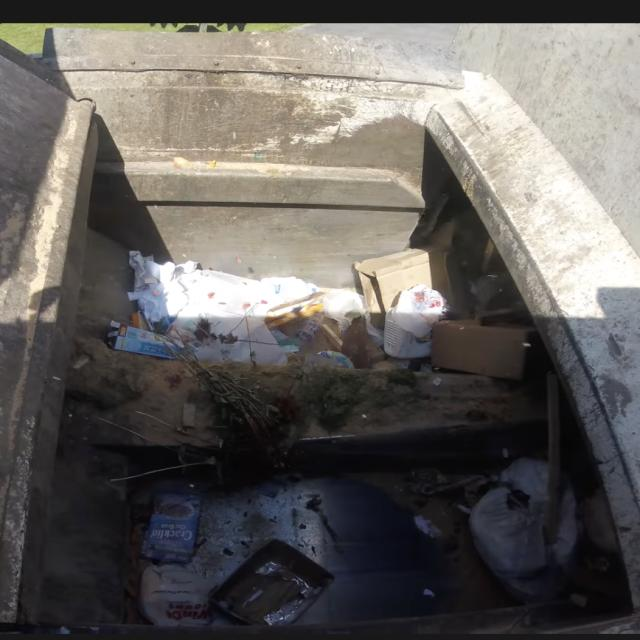cardboard: (338, 238, 554, 412)
paper: (110, 476, 357, 634), (100, 242, 333, 368)
yard: (174, 355, 320, 473)
